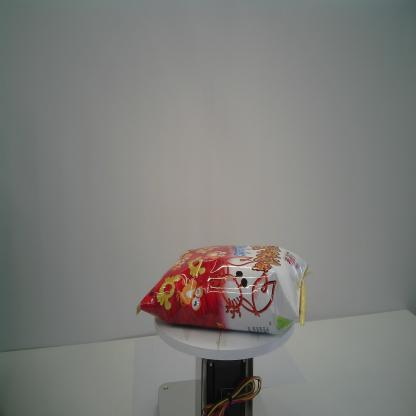Puffed Food: (136, 242, 314, 337)
